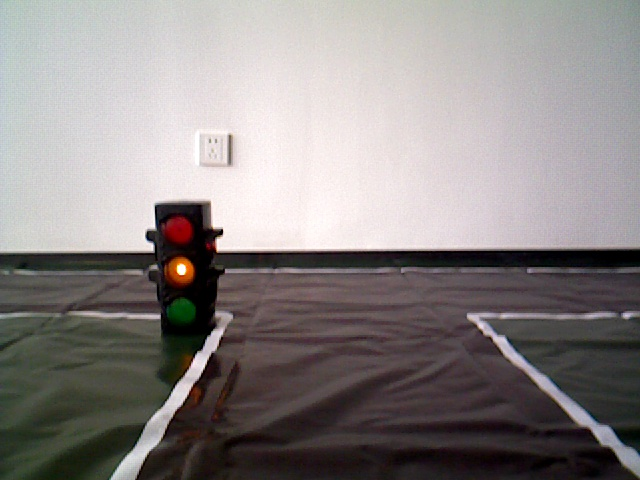yellow: (154, 199, 219, 333)
